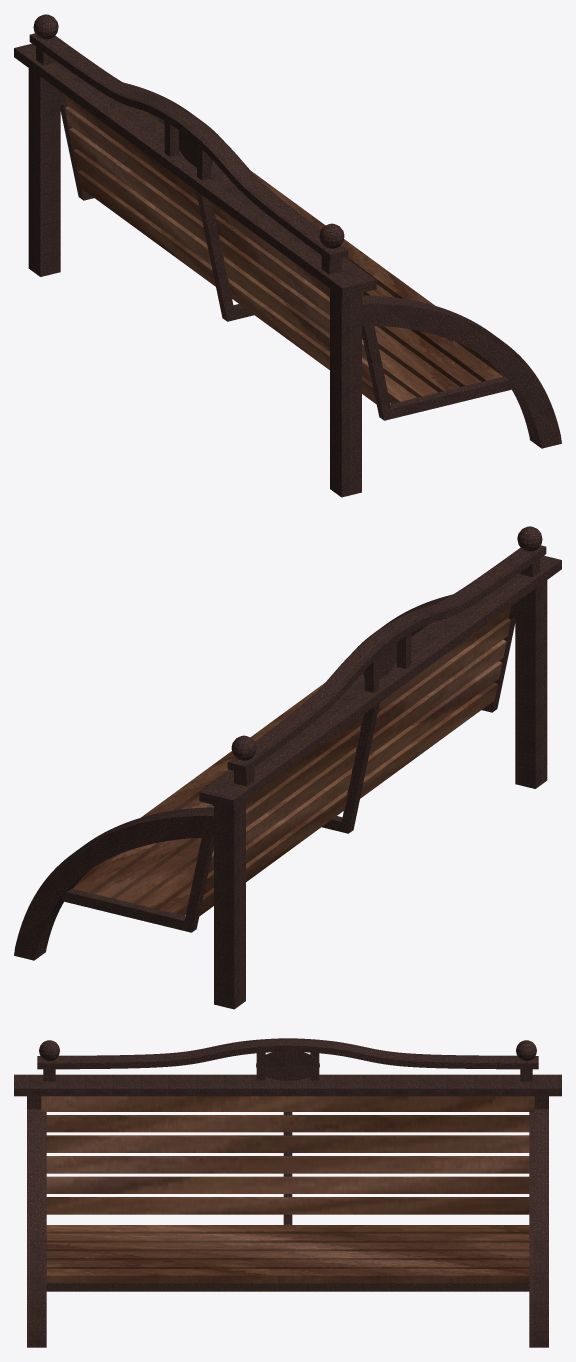
Rendered from лавка.glb.
3 renders of one model, top to bottom at view 1: azimuth 30°, elevation 25°; view 2: azimuth 150°, elevation 25°; view 3: azimuth 270°, elevation 25°, orthographic. The views are drawn at different scales.
Visible parts, largest first — view 1: Железяки, Деревяхи; view 2: Железяки, Деревяхи; view 3: Деревяхи, Железяки.
Part boxes in pixels (x1,y1,x2,y2): Железяки: (14,14,561,497); Деревяхи: (64,94,502,404); Железяки: (14,526,561,1009); Деревяхи: (73,606,511,916); Деревяхи: (41,1096,534,1283); Железяки: (14,1038,561,1347).
Size of the model in its own units: 1.04 by 1.14 by 2.59.
Materials: 2 (2 with a texture image).
